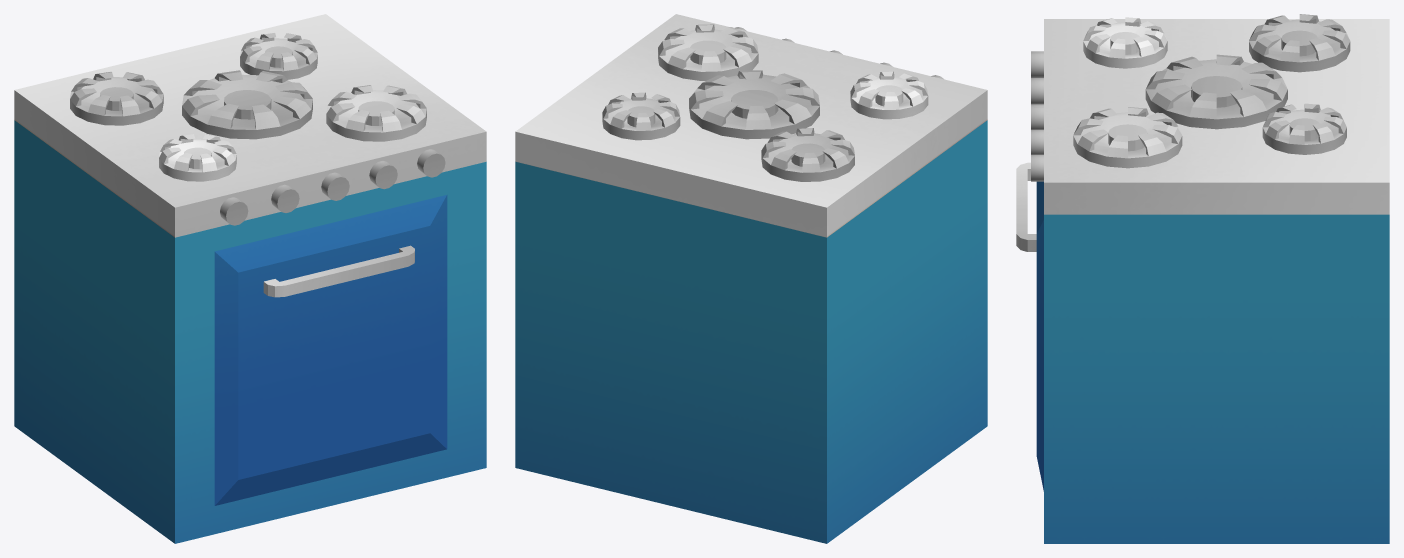
The model's file is Oven.FBX.
3 views of the same model, side by side, from view 1: azimuth 30°, elevation 25°; view 2: azimuth 150°, elevation 25°; view 3: azimuth 270°, elevation 25° (orthographic). The views are drawn at different scales.
Visible parts, largest first — view 1: Cylinder007; view 2: Cylinder007; view 3: Cylinder007.
Boxes of the visible parts, box(x1,y1,x2,y2) form: Cylinder007: box(14, 14, 486, 543); Cylinder007: box(515, 14, 987, 543); Cylinder007: box(1016, 14, 1389, 543).
Size of the model in its own units: 81.02 by 88.23 by 78.23.
1 material, 1 textured.
